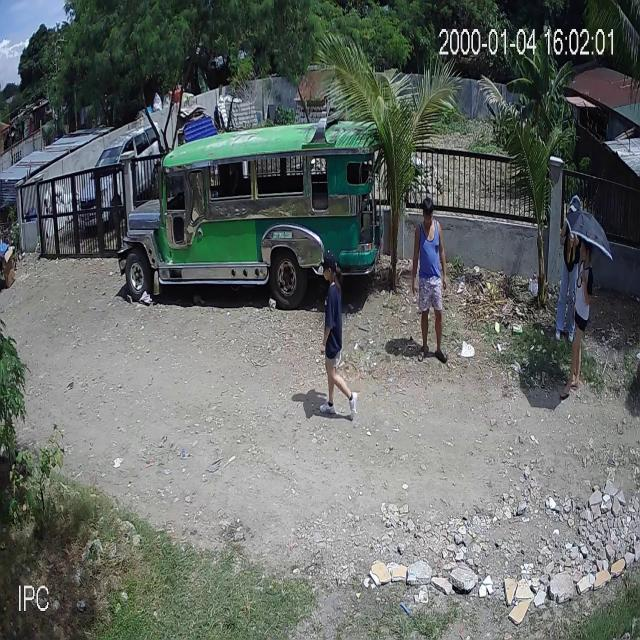standing: (554, 194, 586, 344)
walking: (319, 250, 364, 422), (561, 237, 598, 401), (414, 194, 448, 366)
